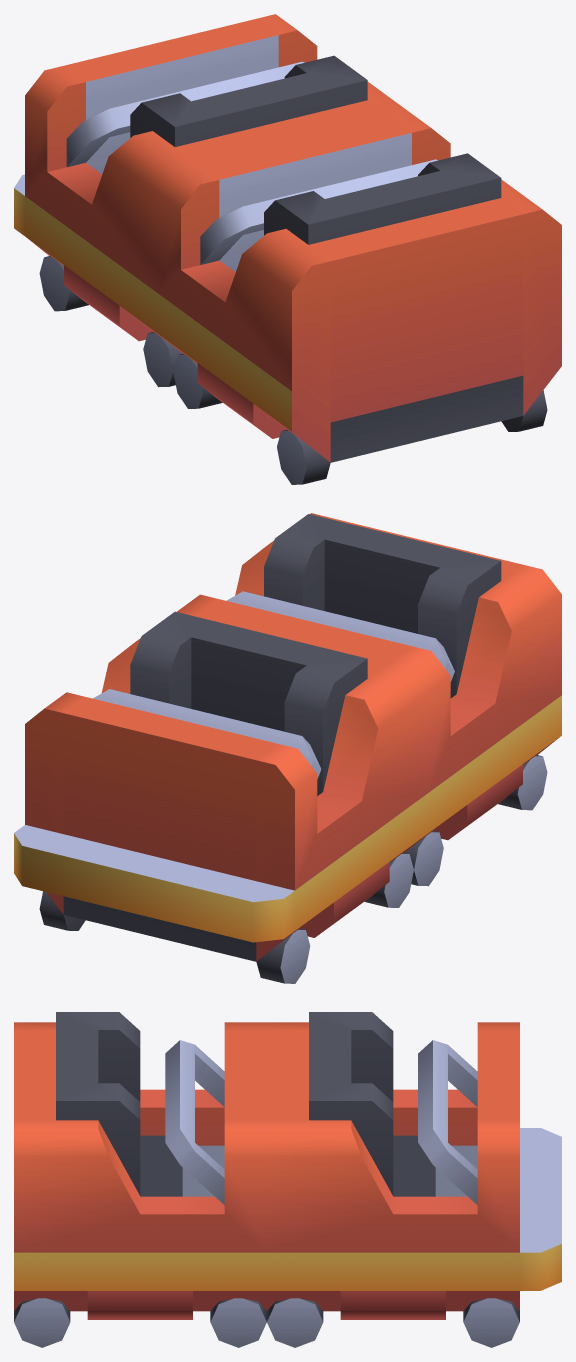
The model's file is coaster-train.glb.
The picture shows the model from 3 angles, top to bottom: view 1: azimuth 30°, elevation 25°; view 2: azimuth 150°, elevation 25°; view 3: azimuth 270°, elevation 25°; orthographic projection. The views are drawn at different scales.
Visible parts, largest first — view 1: coaster-train; view 2: coaster-train; view 3: coaster-train.
Boxes of the visible parts, <box> form: coaster-train: <box>14,14,561,484</box>; coaster-train: <box>14,513,561,983</box>; coaster-train: <box>14,1012,561,1347</box>.
Size of the model in its own units: 0.7001 by 0.6171 by 1.3.
1 material, 1 textured.
